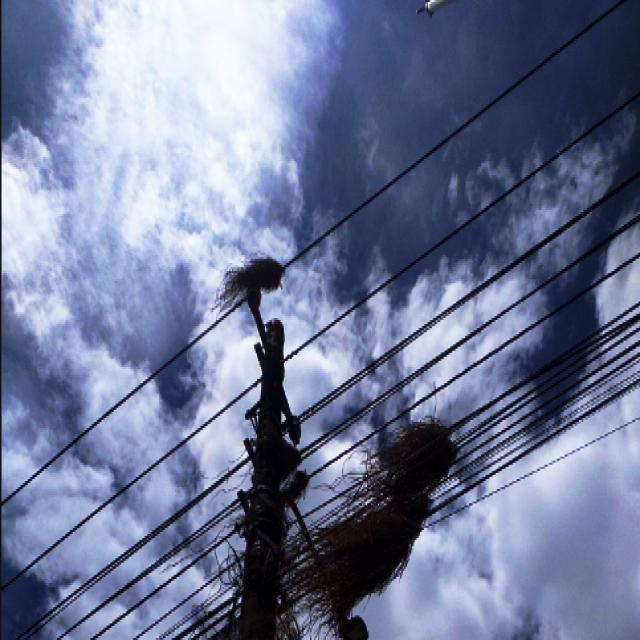obstruction: (260, 422, 462, 639), (209, 257, 288, 317)
poles: (228, 288, 309, 638)
wires: (289, 83, 637, 369), (306, 203, 639, 480), (286, 3, 622, 274), (300, 162, 639, 427), (6, 371, 257, 597), (428, 297, 637, 528), (14, 447, 249, 638), (2, 315, 225, 506), (51, 481, 247, 638)
